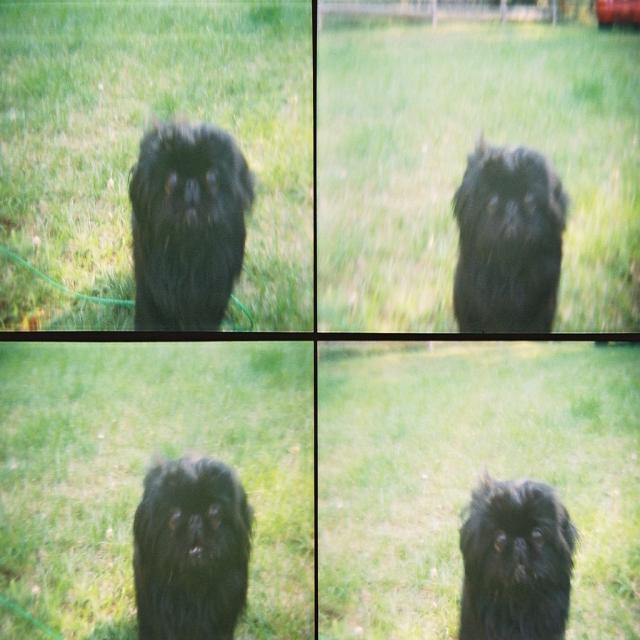Dog: (123, 117, 257, 335), (449, 126, 572, 335), (130, 452, 258, 639), (457, 464, 582, 639)
